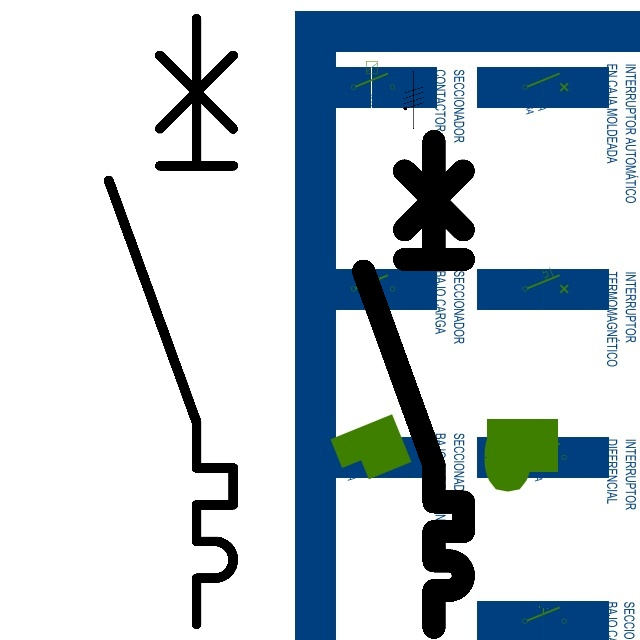interruptor_termomagnetico: (93, 3, 249, 640), (351, 128, 476, 639)
